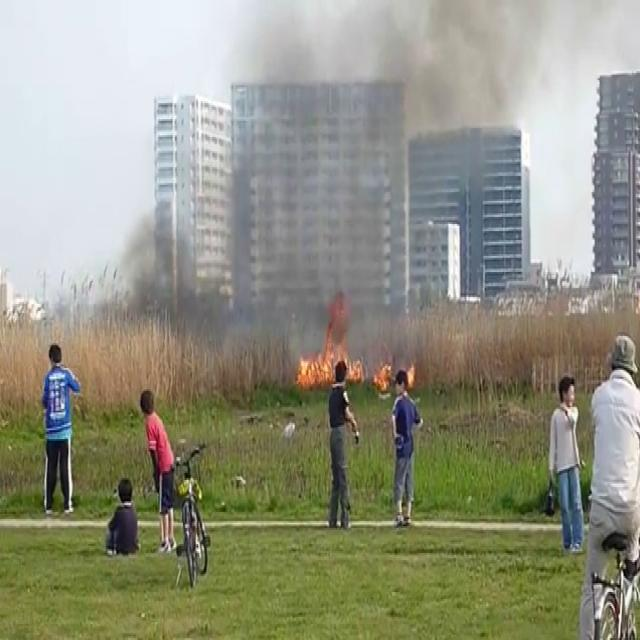Fire: (294, 321, 367, 390)
Smoke: (226, 0, 604, 352), (92, 186, 235, 359)
